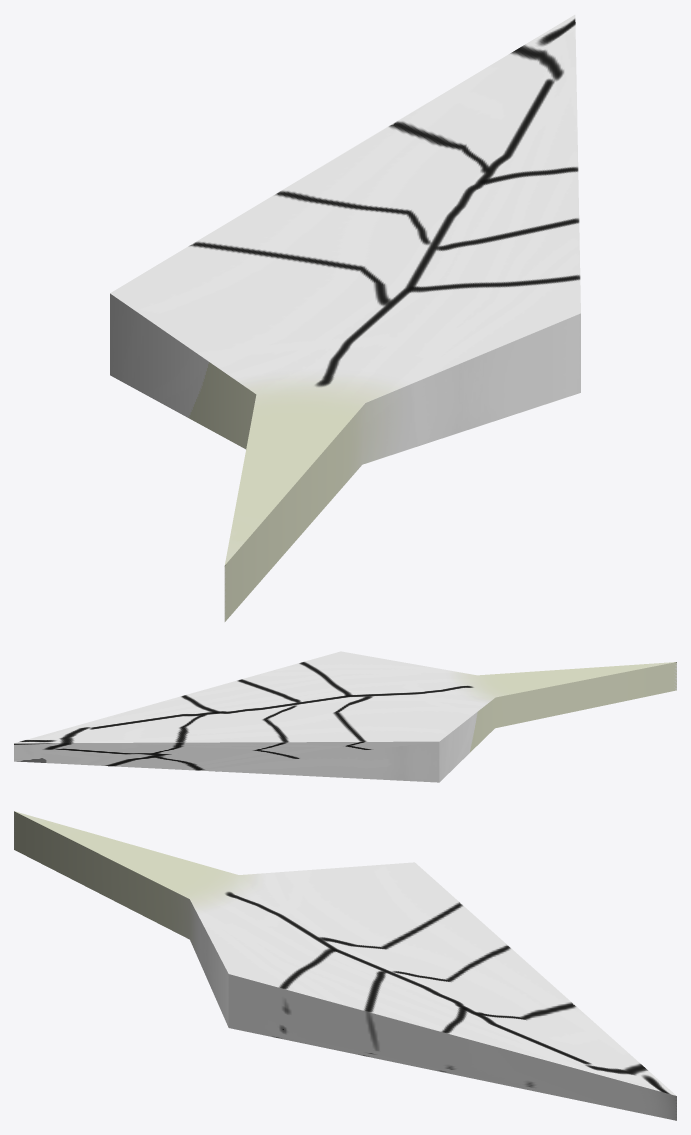
Rendered from Feather_text.fbx.
The picture shows the model from 3 angles, top to bottom: view 1: azimuth 30°, elevation 25°; view 2: azimuth 150°, elevation 25°; view 3: azimuth 270°, elevation 25°; orthographic projection. The views are drawn at different scales.
Visible parts, largest first — view 1: pCube1; view 2: pCube1; view 3: pCube1.
Part boxes in pixels (bbox=[...]): pCube1: bbox=[110, 15, 580, 621]; pCube1: bbox=[14, 651, 676, 782]; pCube1: bbox=[14, 811, 676, 1120].
Bounding box in the file's own units: 1.15 × 0.1079 × 1.16.
1 material, 1 textured.
